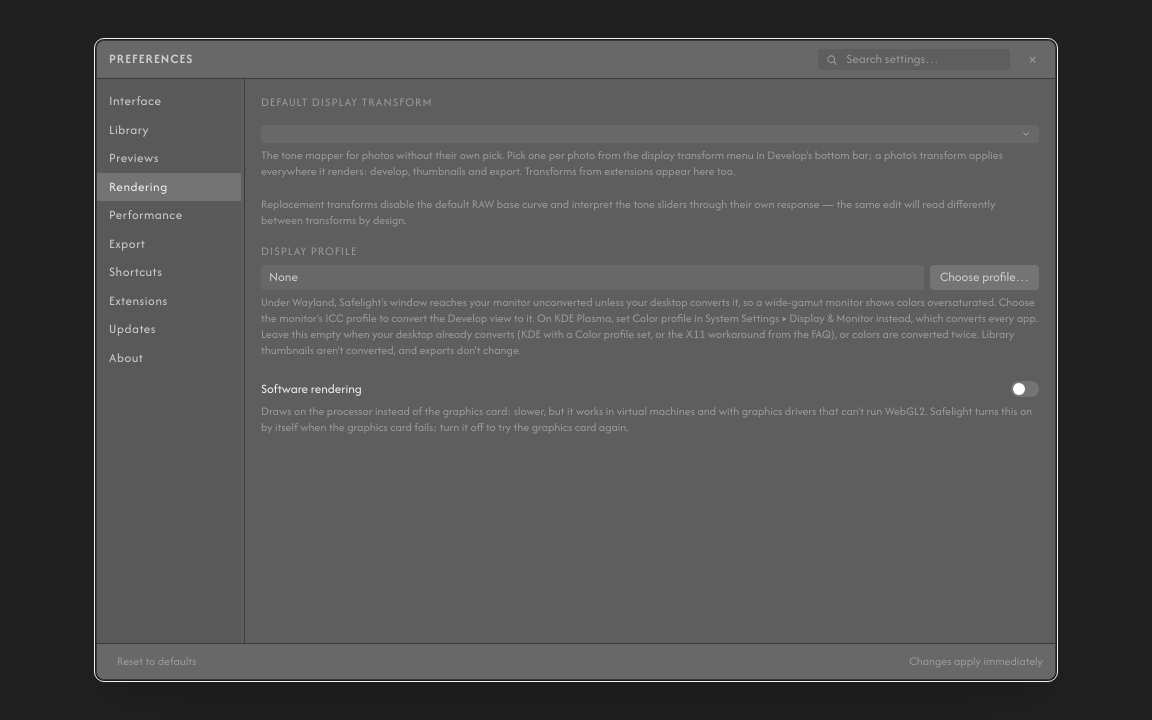
Test: Preferences ▸ Rendering ▸ Software rendering › can be turned on by hand
What coordinates should you click on to do the following:
click the switch labelled "Software rendering"
I would click on:
 (311, 388)
Its box is [261,380,1039,397].
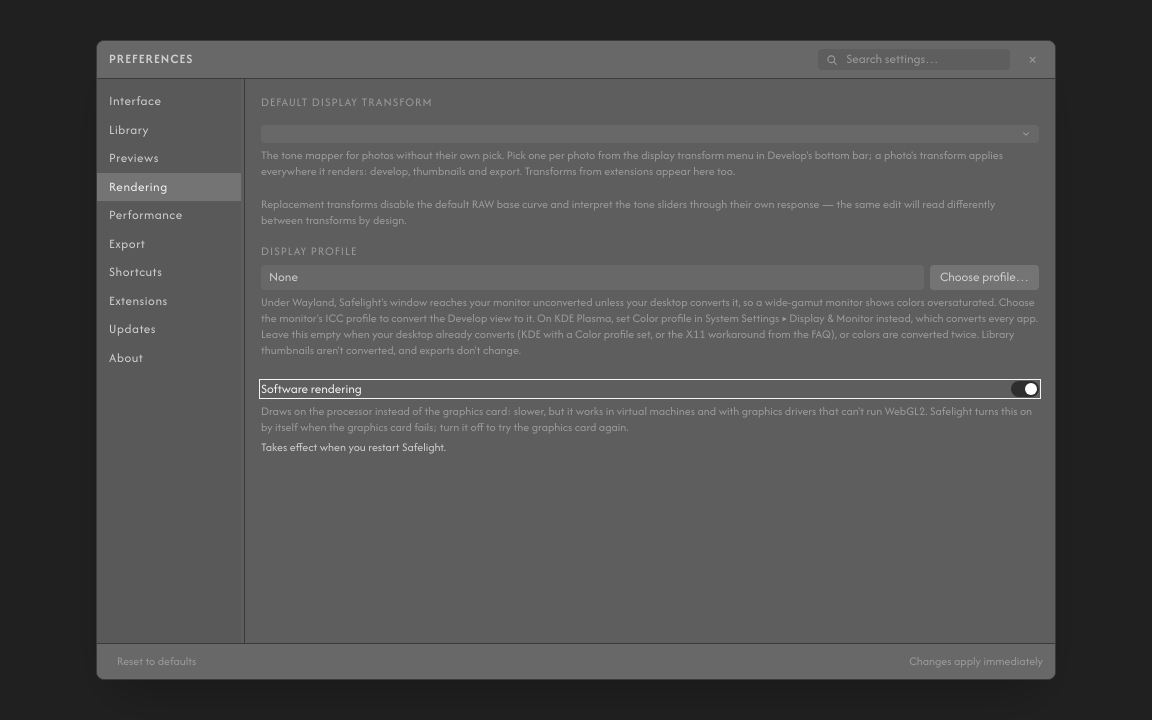
Check: the text "Takes effect when you restart Safelight." is shown, box [261,439,446,455]
